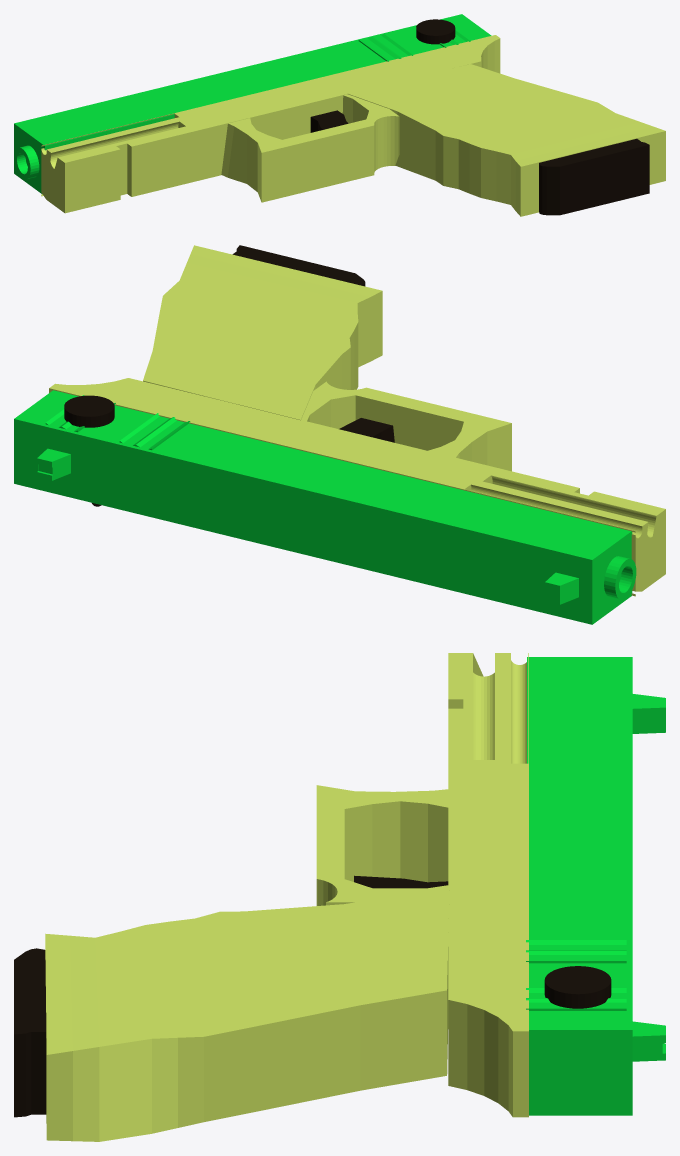
File: pistol.fbx
3 views of the same model, one above another, from view 1: azimuth 30°, elevation 25°; view 2: azimuth 150°, elevation 25°; view 3: azimuth 270°, elevation 25° (orthographic). The views are drawn at different scales.
Parts seen in each view (by area): view 1: Cube.009, Cube, GunBarrel, Cube.006, Cube.010, LockBase, Barrel, Cube.008, ThumbGrip; view 2: GunBarrel, Cube.009, Cube, Cube.006, IronSight, Cube.010, LockBase, Barrel, ThumbGrip, Cube.008; view 3: Cube.009, GunBarrel, Cube, Cube.006, Cube.010, IronSight, LockBase, ThumbGrip, Cube.008.
Boxes of the visible parts, box(x1,y1,x2,y2) form: Cube.009: box(347, 64, 665, 216); Cube: box(41, 35, 500, 213); GunBarrel: box(14, 14, 491, 193); Cube.006: box(221, 94, 399, 202); Cube.010: box(539, 138, 649, 215); LockBase: box(416, 19, 455, 44); Barrel: box(14, 145, 39, 179); Cube.008: box(310, 110, 348, 132); ThumbGrip: box(358, 25, 470, 61); GunBarrel: box(14, 390, 632, 624); Cube.009: box(143, 245, 382, 420); Cube: box(49, 378, 665, 596); Cube.006: box(301, 381, 511, 471); IronSight: box(37, 448, 578, 604); Cube.010: box(232, 245, 365, 286); LockBase: box(64, 395, 114, 427); Barrel: box(604, 556, 636, 599); ThumbGrip: box(45, 395, 190, 450); Cube.008: box(339, 418, 394, 442); Cube.009: box(45, 888, 449, 1141); GunBarrel: box(527, 657, 632, 1115); Cube: box(448, 653, 528, 1117); Cube.006: box(316, 785, 448, 905); Cube.010: box(14, 948, 46, 1117); IronSight: box(632, 694, 665, 1061); LockBase: box(544, 966, 611, 1008); ThumbGrip: box(526, 940, 626, 1010); Cube.008: box(354, 875, 448, 888).
Size of what is drawn, in the model's own units: 444 by 56.89 by 299.
